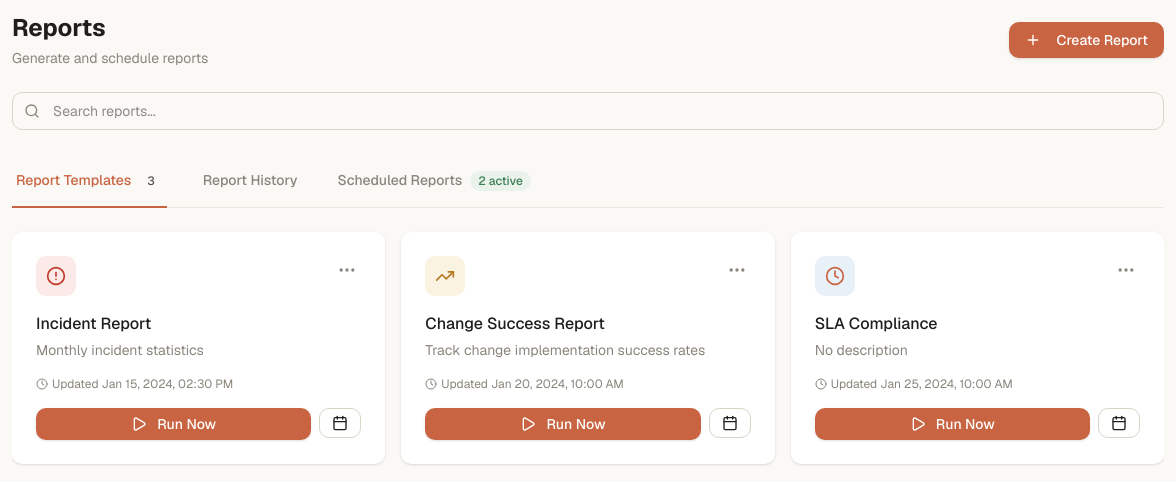
Scenario: ReportsPage › Search Functionality › filters templates by name
The width and height of the screenshot is (1176, 482).
Expected: the heading "Incident Report" is shown, [36, 313, 151, 334]
Step 1. Type "Incident" into the field with placeholder "Search reports..." → [588, 111], box [12, 92, 1164, 130]
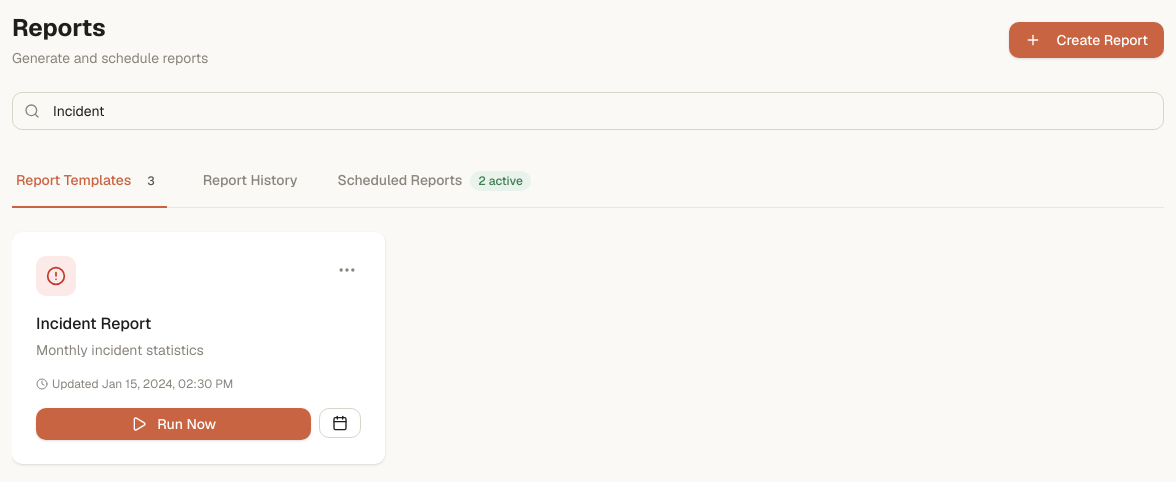
Expected: the heading "Incident Report" is shown, [36, 313, 151, 334]
Expected: the heading "Change Success Report" is gone
Expected: the heading "SLA Compliance" is gone
